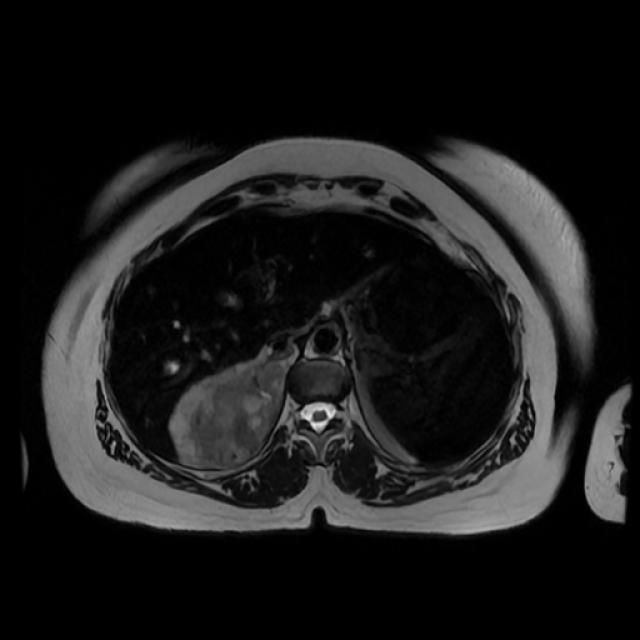sag: (174, 363, 286, 463)
